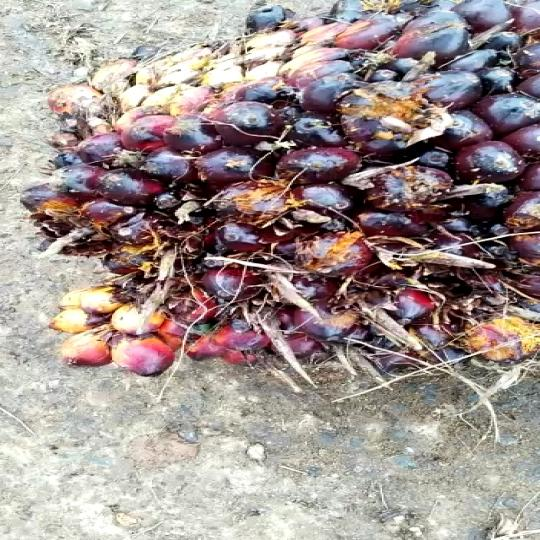masak: (41, 0, 540, 379)
